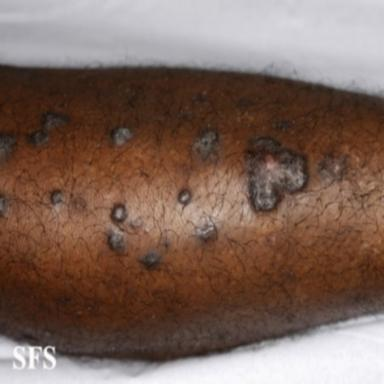lichen: (245, 137, 307, 211), (319, 152, 347, 183), (193, 128, 219, 160), (196, 216, 217, 241), (43, 112, 68, 131), (0, 132, 16, 161), (108, 228, 125, 251), (113, 127, 133, 145), (141, 250, 161, 268), (29, 131, 49, 146), (112, 204, 127, 221), (179, 189, 191, 205), (273, 121, 291, 131), (52, 191, 63, 204), (0, 196, 7, 215), (131, 218, 143, 228), (163, 236, 169, 248)
